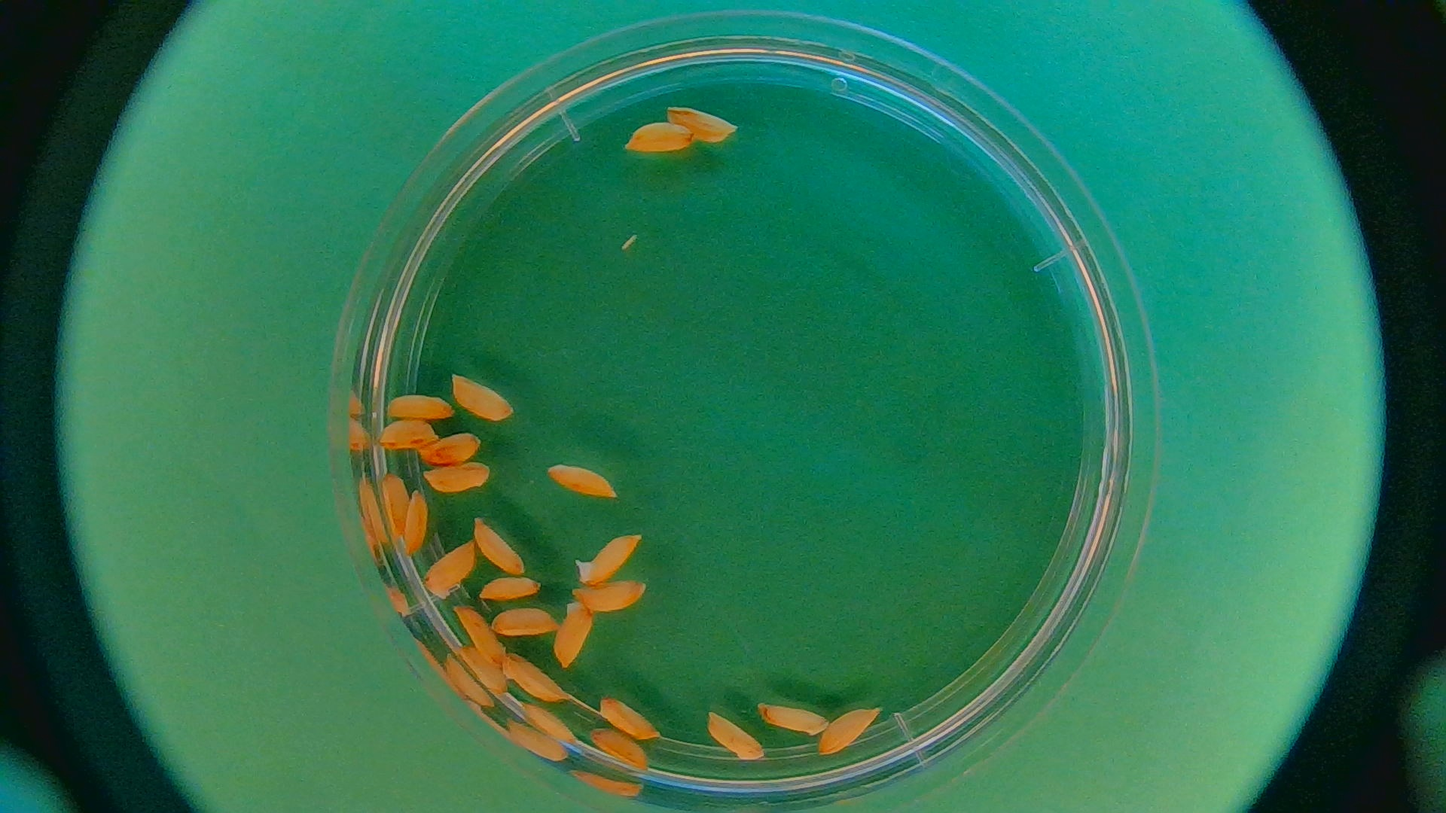no: (815, 692, 885, 763), (702, 706, 782, 761), (502, 649, 578, 704), (447, 372, 523, 425), (757, 690, 837, 738), (471, 513, 530, 577), (664, 98, 740, 146), (423, 537, 480, 601), (545, 455, 622, 502), (597, 690, 667, 741), (589, 723, 666, 769), (517, 699, 590, 746), (549, 602, 596, 673), (621, 117, 697, 160), (457, 603, 511, 662), (442, 655, 494, 711), (490, 602, 563, 641), (377, 473, 417, 544), (423, 459, 496, 494), (379, 389, 458, 421), (373, 418, 443, 452), (480, 571, 546, 604), (404, 489, 434, 556)
yes: (575, 532, 643, 588)
